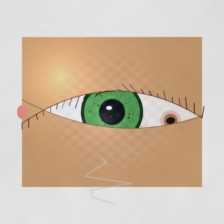foreign_body_visible: (148, 103, 193, 138)
